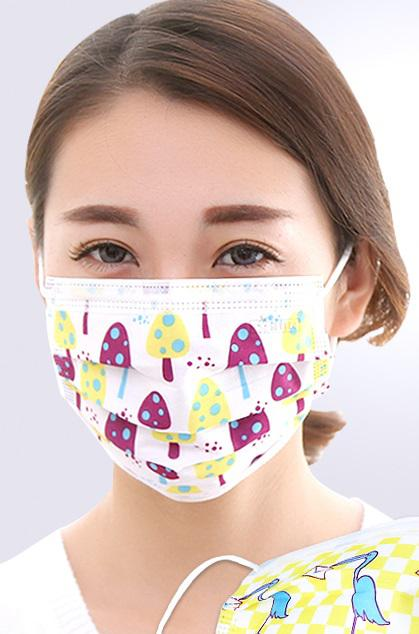OK: (39, 192, 345, 498)
